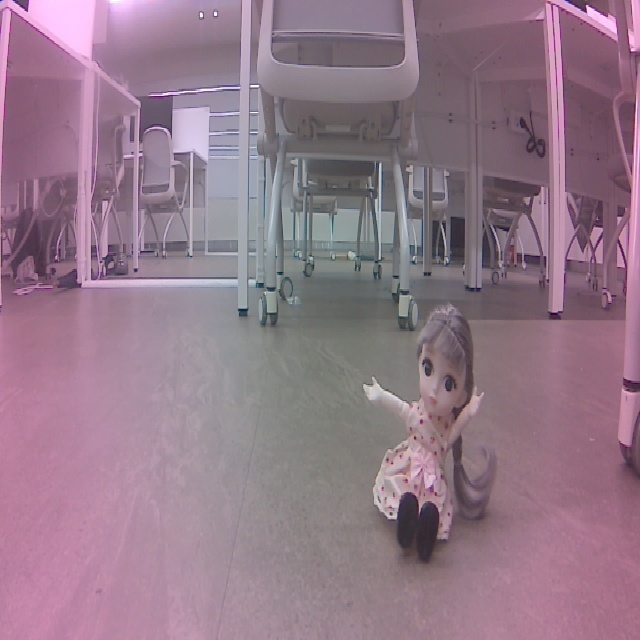장애물: (353, 303, 502, 565)
